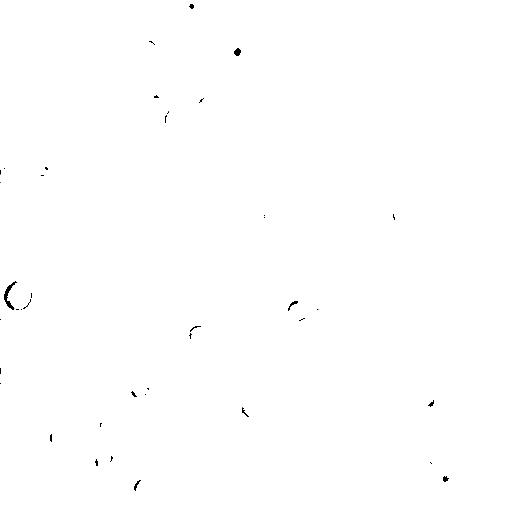micro-algae: (237, 0, 274, 48), (405, 379, 445, 417), (426, 461, 458, 495), (3, 277, 34, 311), (241, 199, 273, 229), (188, 8, 219, 38), (425, 437, 457, 466), (457, 39, 485, 71), (11, 3, 37, 35), (224, 37, 252, 65), (133, 39, 160, 67), (370, 431, 396, 460), (330, 303, 363, 325), (155, 270, 183, 295), (1, 359, 26, 387), (285, 298, 314, 322), (357, 0, 393, 19), (307, 293, 329, 324), (405, 105, 428, 133), (177, 0, 205, 22), (132, 475, 159, 497), (169, 452, 195, 473), (187, 324, 211, 346), (265, 404, 288, 425), (259, 425, 279, 449), (95, 449, 116, 471), (409, 147, 429, 170), (49, 429, 69, 451), (241, 399, 263, 419), (378, 0, 401, 19), (85, 410, 104, 433), (197, 92, 218, 112), (130, 379, 151, 399), (127, 304, 149, 323), (163, 106, 181, 129), (137, 332, 161, 347), (392, 207, 409, 227), (431, 0, 464, 10), (31, 165, 53, 179), (255, 151, 272, 169), (72, 496, 91, 511), (1, 164, 16, 182)
